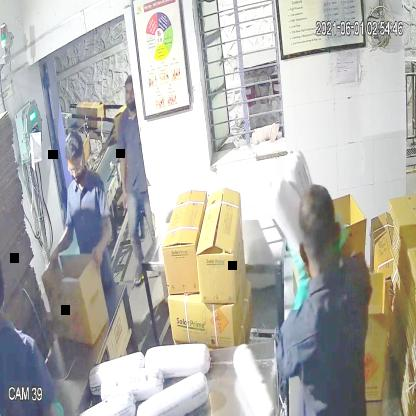goggles: (65, 154, 86, 179)
